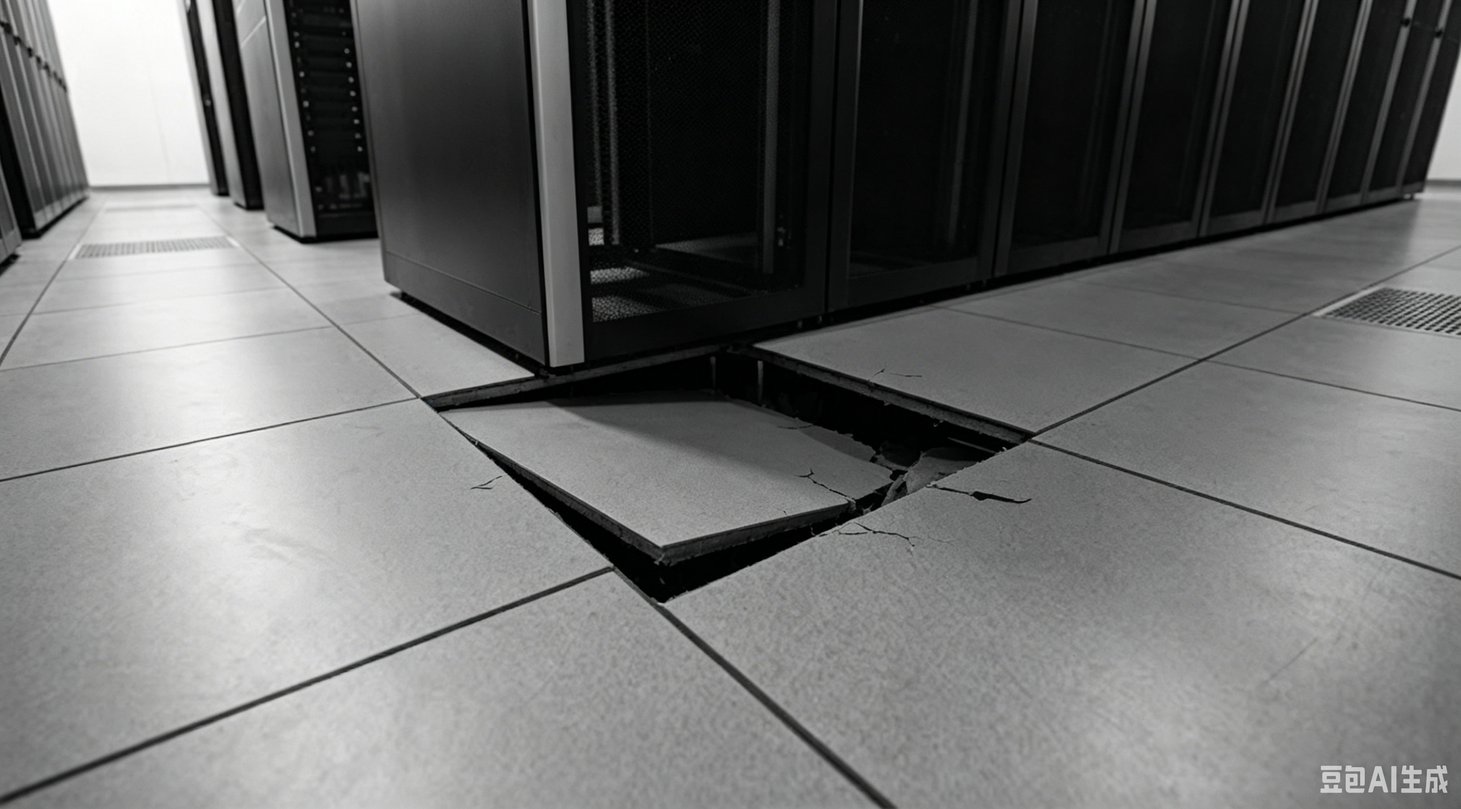floor_defect: (409, 308, 1044, 605)
